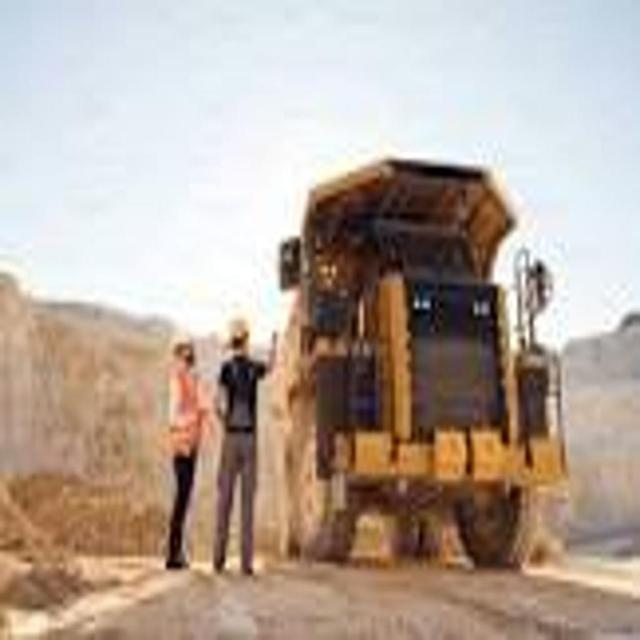dump_truck: (281, 142, 571, 578)
